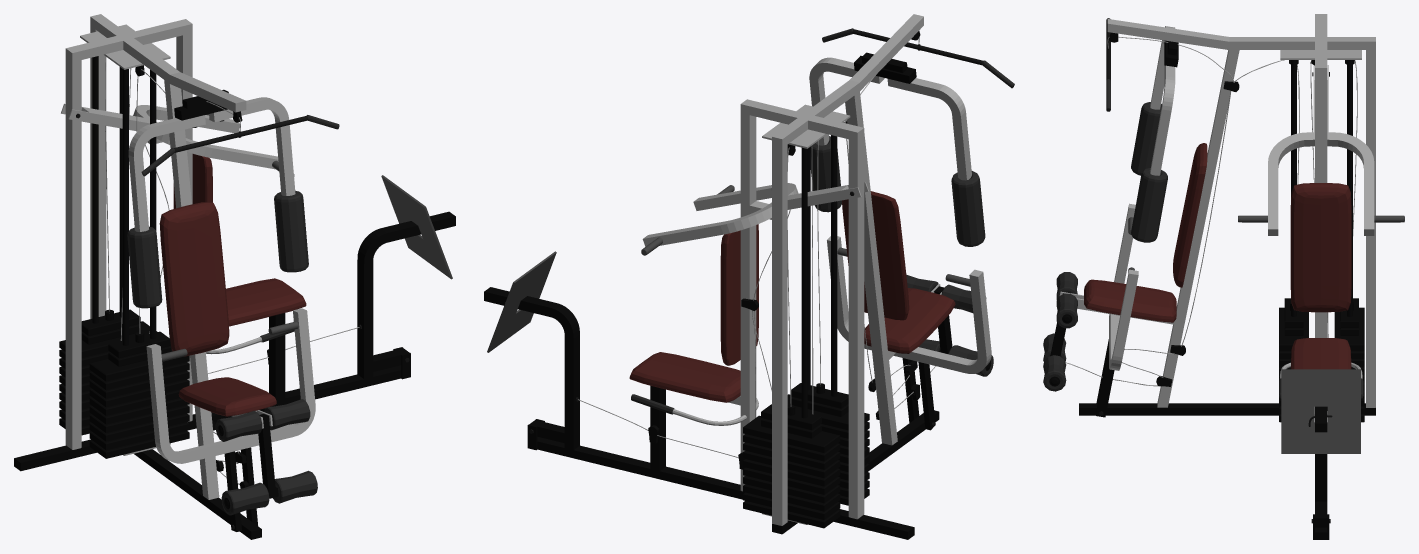
The model's file is fitnessTower.obj.
The picture shows the model from 3 angles, left to right: view 1: azimuth 30°, elevation 25°; view 2: azimuth 150°, elevation 25°; view 3: azimuth 270°, elevation 25°; orthographic projection. The views are drawn at different scales.
Parts seen in each view (by area): view 1: Cube.001, Cube.010_Cube.012, Cube.008_Cube.010, Cube, Cube.016_Cube.020, Cylinder.003_Cylinder, Cylinder.006_Cylinder.007, Cube.015_Cube.017, Cylinder.009, Cube.014_Cube.016, Cube.005_Cube.006, Cube.006_Cube.007 (+8 smaller); view 2: Cube.001, Cube.010_Cube.012, Cube, Cube.016_Cube.020, Cylinder.003_Cylinder, Cube.014_Cube.016, Cube.008_Cube.010, Cube.006_Cube.007, Cube.005_Cube.006, Cube.015_Cube.017, Cylinder.006_Cylinder.007, Cube.007_Cube.009 (+9 smaller); view 3: Cube.001, Cube.007_Cube.009, Plane, Cube.005_Cube.006, Cylinder.006_Cylinder.007, Cube.016_Cube.020, Cube, Cube.009_Cube.011, Cylinder.009, Cube.008_Cube.010, Cube.010_Cube.012, Cube.006_Cube.007 (+7 smaller).
Boxes of the visible parts, x1,y1,x2,y2 form: Cube.001: (65,14,272,499); Cube.010_Cube.012: (59,321,189,458); Cube.008_Cube.010: (159,202,229,356); Cube: (14,313,410,539); Cube.016_Cube.020: (146,308,315,531); Cylinder.003_Cylinder: (92,56,156,345); Cylinder.006_Cylinder.007: (127,190,308,308); Cube.015_Cube.017: (128,97,295,231); Cylinder.009: (215,399,317,515); Cube.014_Cube.016: (357,211,455,379); Cube.005_Cube.006: (61,103,278,169); Cube.006_Cube.007: (226,278,306,326); Cube.001: (728,14,941,525); Cube.010_Cube.012: (743,394,869,528); Cube: (527,385,939,539); Cube.016_Cube.020: (827,236,991,430); Cylinder.003_Cylinder: (801,135,837,418); Cube.014_Cube.016: (484,287,579,450); Cube.008_Cube.010: (842,191,909,320); Cube.006_Cube.007: (629,352,740,402); Cube.005_Cube.006: (642,182,868,246); Cube.015_Cube.017: (809,57,971,180); Cylinder.006_Cylinder.007: (810,136,985,246); Cube.007_Cube.009: (720,224,758,365); Cube.001: (1059,14,1375,415); Cube.007_Cube.009: (1290,183,1351,312); Plane: (1281,369,1360,453); Cube.005_Cube.006: (1268,65,1374,235); Cylinder.006_Cylinder.007: (1131,102,1167,242); Cube.016_Cube.020: (1096,203,1138,417); Cube: (1079,403,1375,539); Cube.009_Cube.011: (1084,279,1176,322); Cylinder.009: (1043,272,1077,391); Cube.008_Cube.010: (1173,143,1207,287); Cube.010_Cube.012: (1279,307,1364,422); Cube.006_Cube.007: (1290,338,1351,369).
Bounding box in the file's own units: 223 × 208 × 174.
